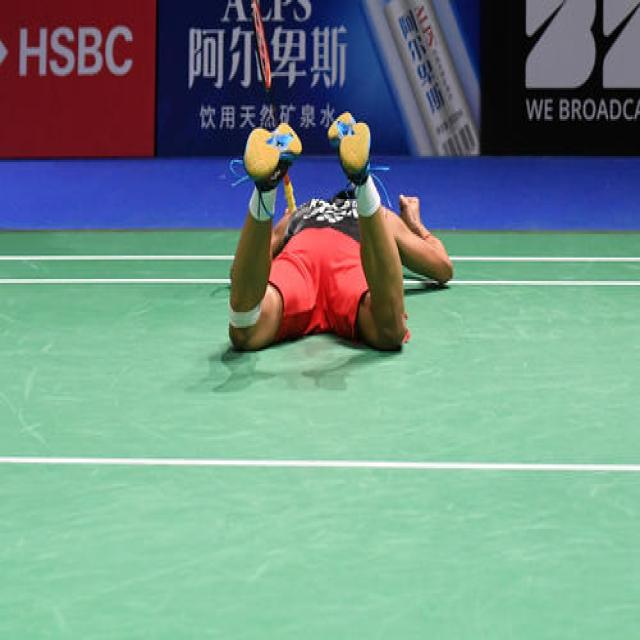fall: (220, 133, 435, 361)
